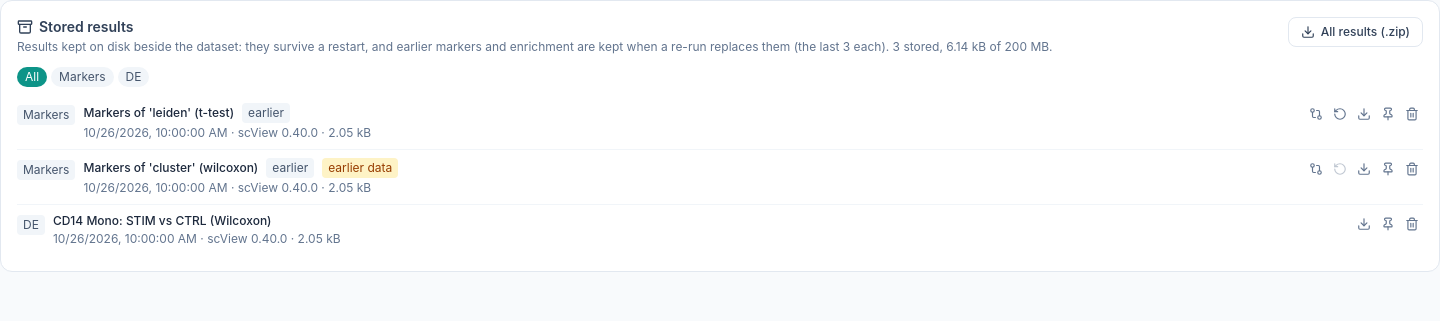
ResultsList › shows a restore refusal on its row
Click the button named "Make Markers of 'leiden' (t-test) current again" at point(1340, 114), box [1329,103,1351,125]
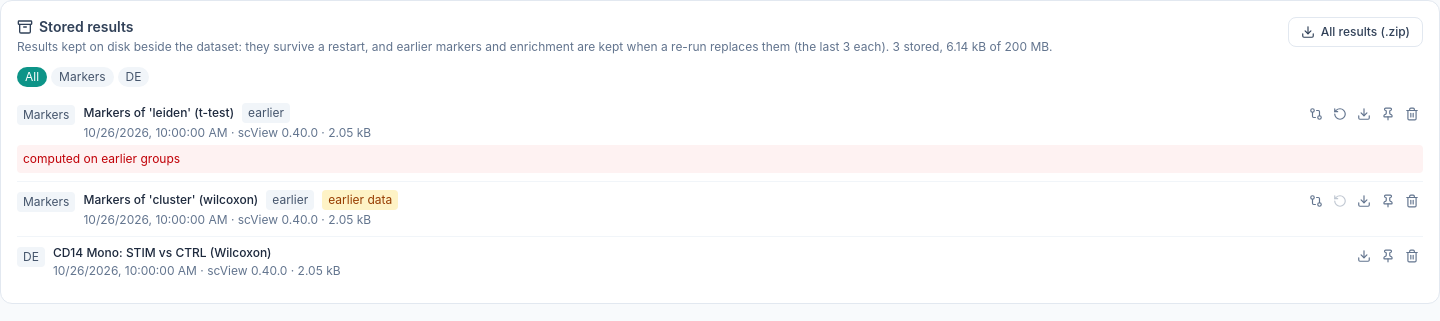
Expected: the message reads "computed on earlier groups", [23,151,180,166]
